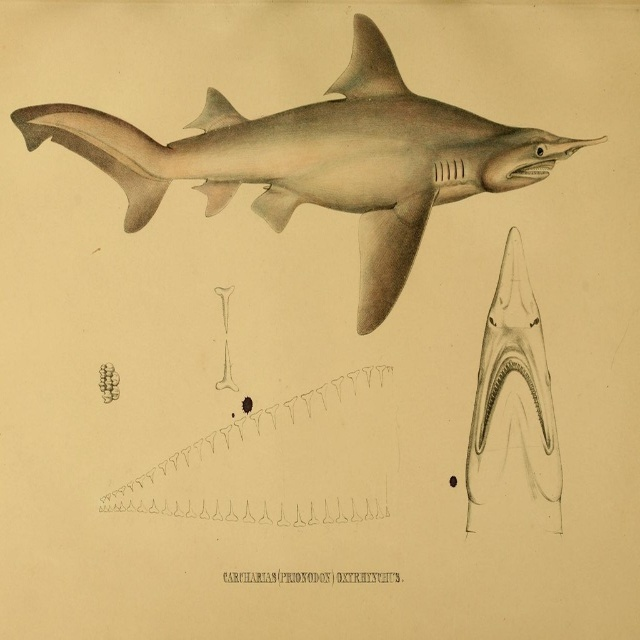Shark: (8, 13, 602, 332)
